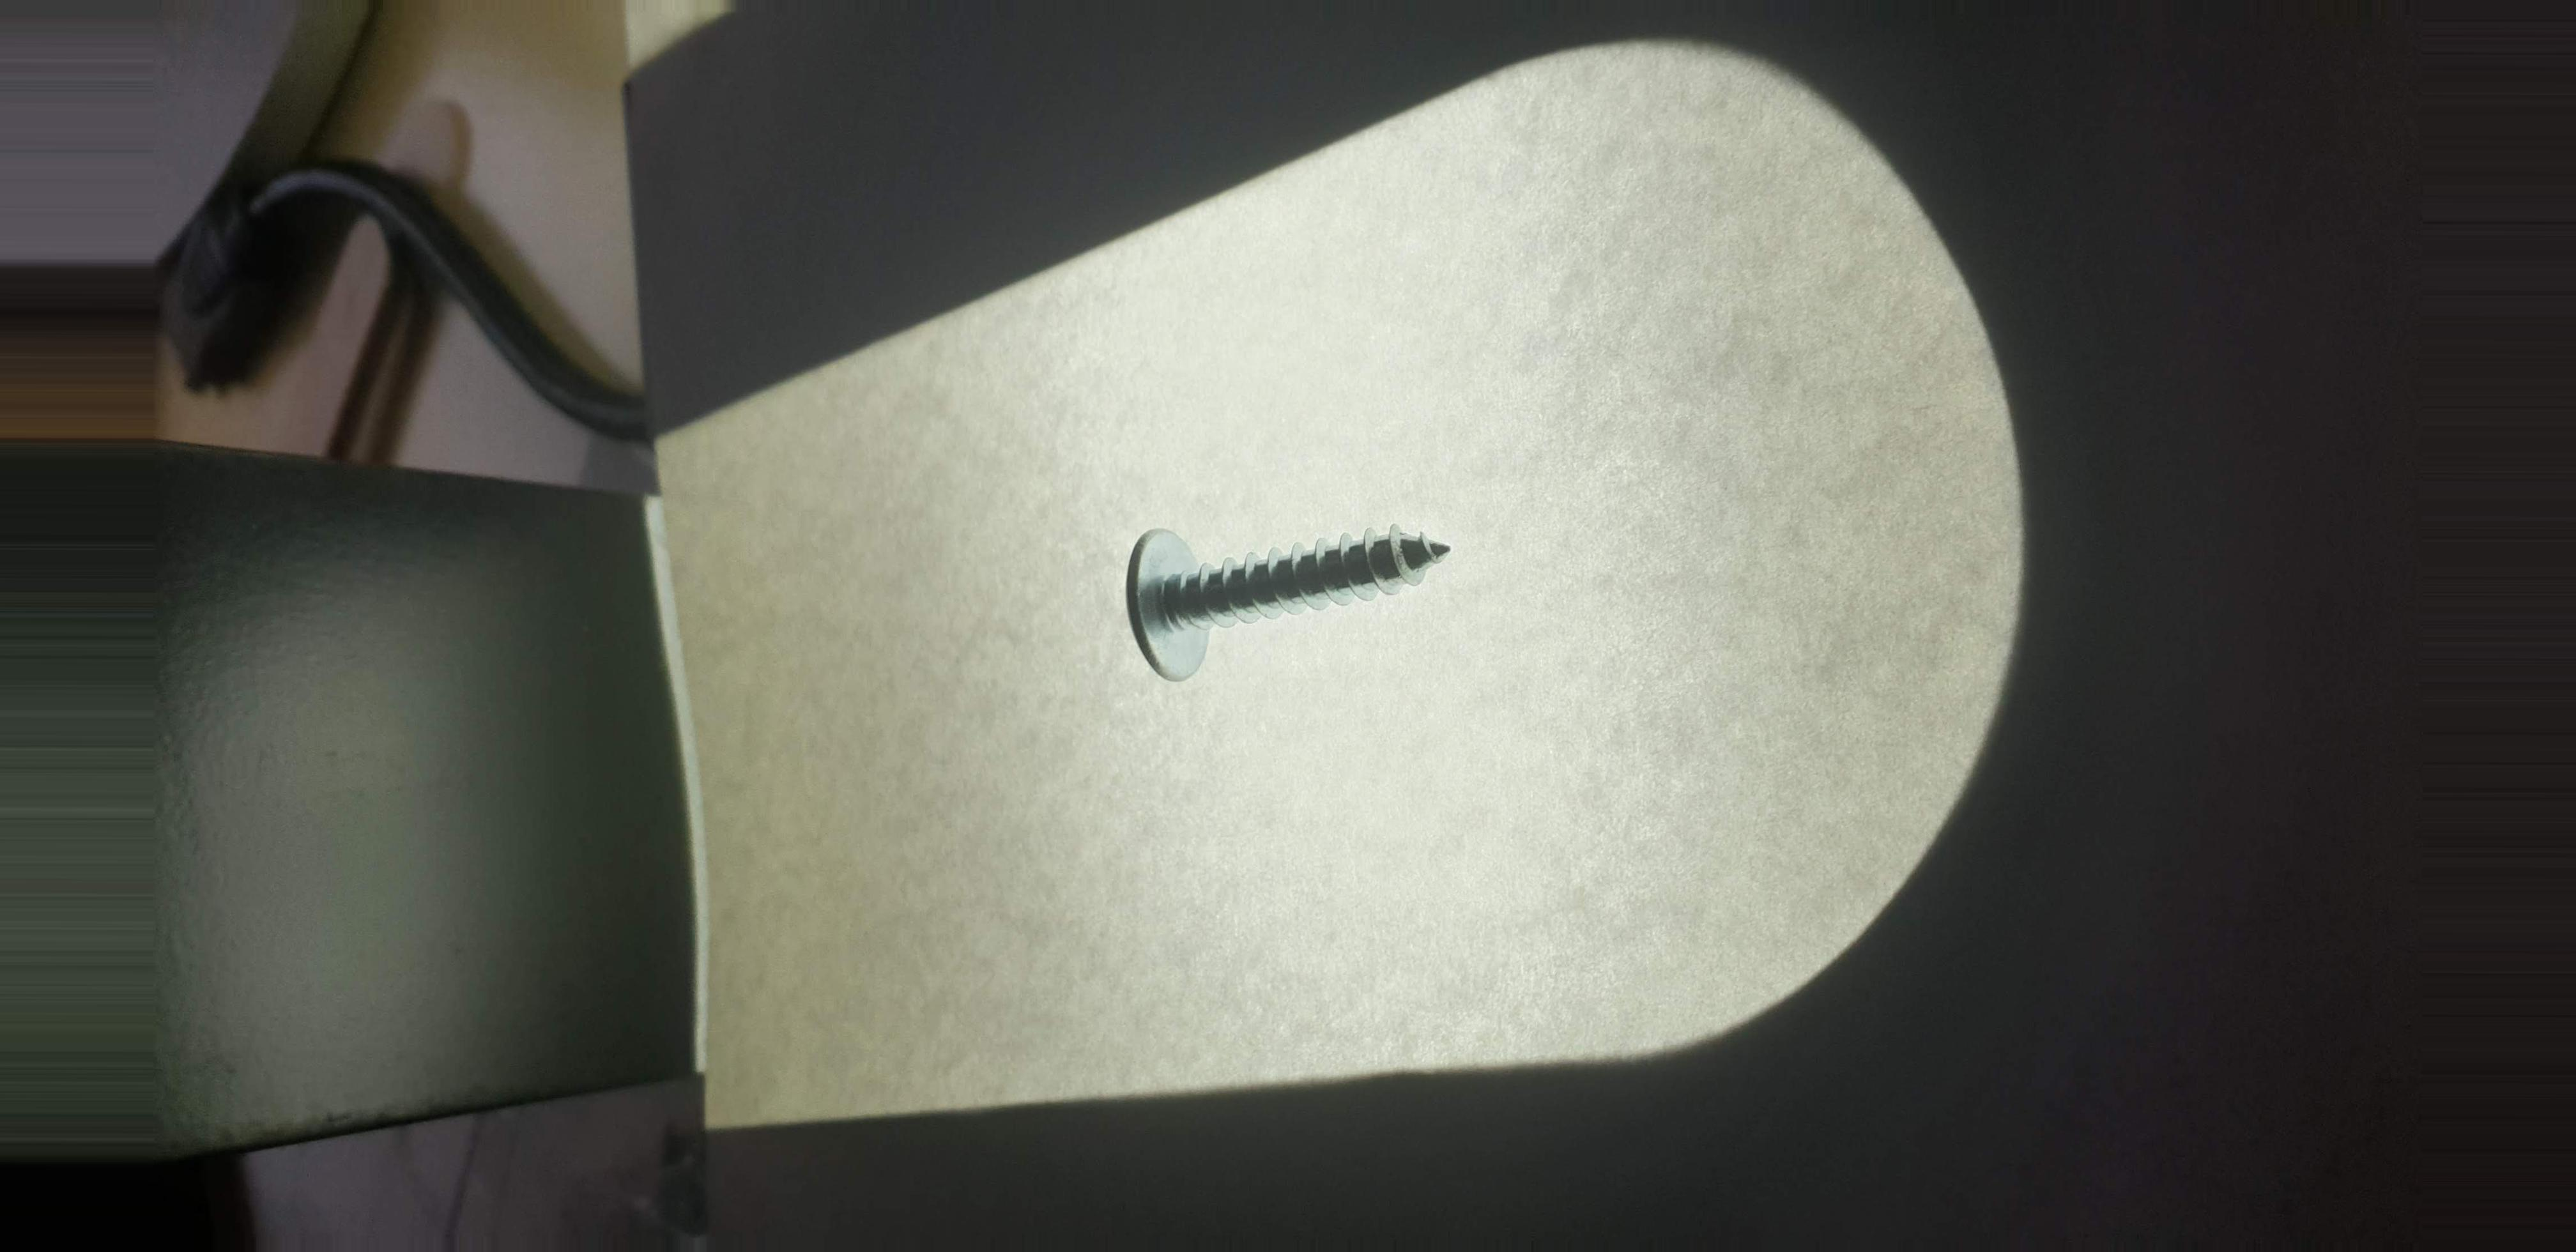S002: (1081, 478, 1477, 716)
